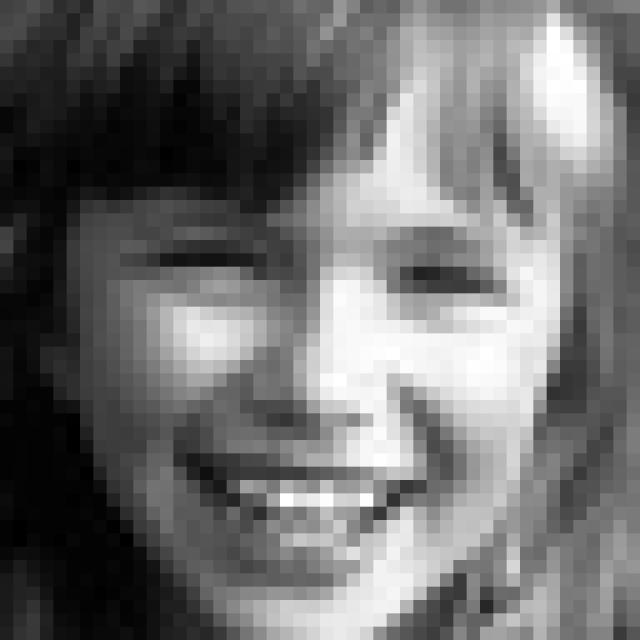happy: (125, 202, 536, 596)
